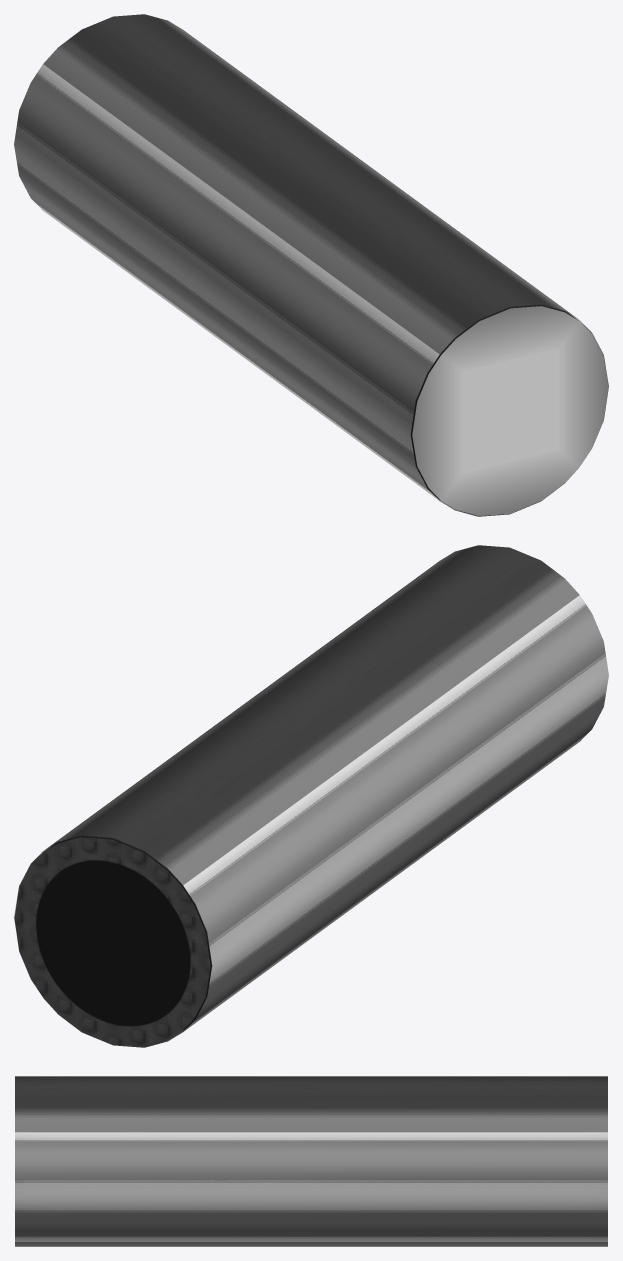
File: plasmacannon.obj
3 views of the same model, one above another, from view 1: azimuth 30°, elevation 25°; view 2: azimuth 150°, elevation 25°; view 3: azimuth 270°, elevation 25° (orthographic). The views are drawn at different scales.
Parts seen in each view (by area): view 1: Plasmacannon4, Plasmacannon3, Plasmacannon7; view 2: Plasmacannon4, Plasmacannon3, Plasmacannon2; view 3: Plasmacannon5, Plasmacannon3, Plasmacannon6.
Part boxes in pixels (<box>): Plasmacannon4: <box>14,64,439,499</box>; Plasmacannon3: <box>43,14,577,354</box>; Plasmacannon7: <box>412,306,608,515</box>; Plasmacannon4: <box>183,595,608,1030</box>; Plasmacannon3: <box>45,545,579,885</box>; Plasmacannon2: <box>14,837,210,1046</box>; Plasmacannon5: <box>15,1132,607,1241</box>; Plasmacannon3: <box>15,1076,607,1132</box>; Plasmacannon6: <box>15,1242,607,1246</box>.
Bounding box in the file's own units: 4.04 × 4.04 × 14.04.
Materials: 5 (4 with a texture image).
